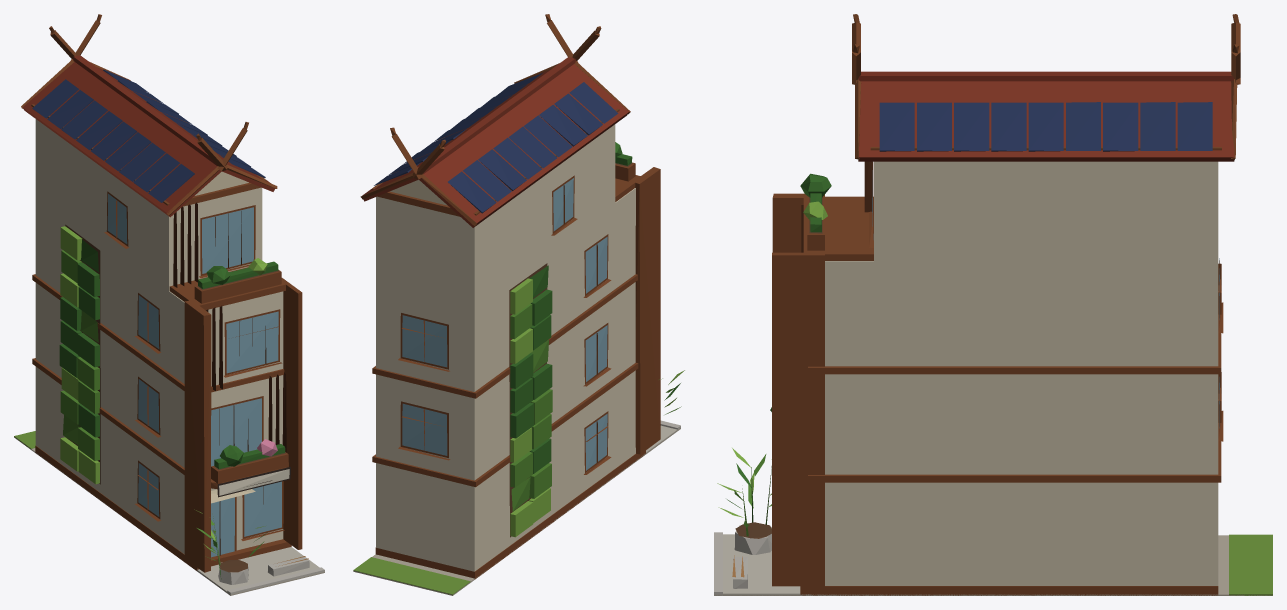
Rendered from bay2_left.glb.
The picture shows the model from 3 angles, left to right: view 1: azimuth 30°, elevation 25°; view 2: azimuth 150°, elevation 25°; view 3: azimuth 270°, elevation 25°; orthographic projection. The views are drawn at different scales.
Visible parts, largest first — view 1: body; view 2: body; view 3: body.
Part boxes in pixels (x1=…): body: x1=14, y1=14, x2=324, y2=595; body: x1=353, y1=14, x2=684, y2=595; body: x1=714, y1=14, x2=1272, y2=595.
Bounding box in the file's own units: 4.97 × 16.86 × 15.9.
